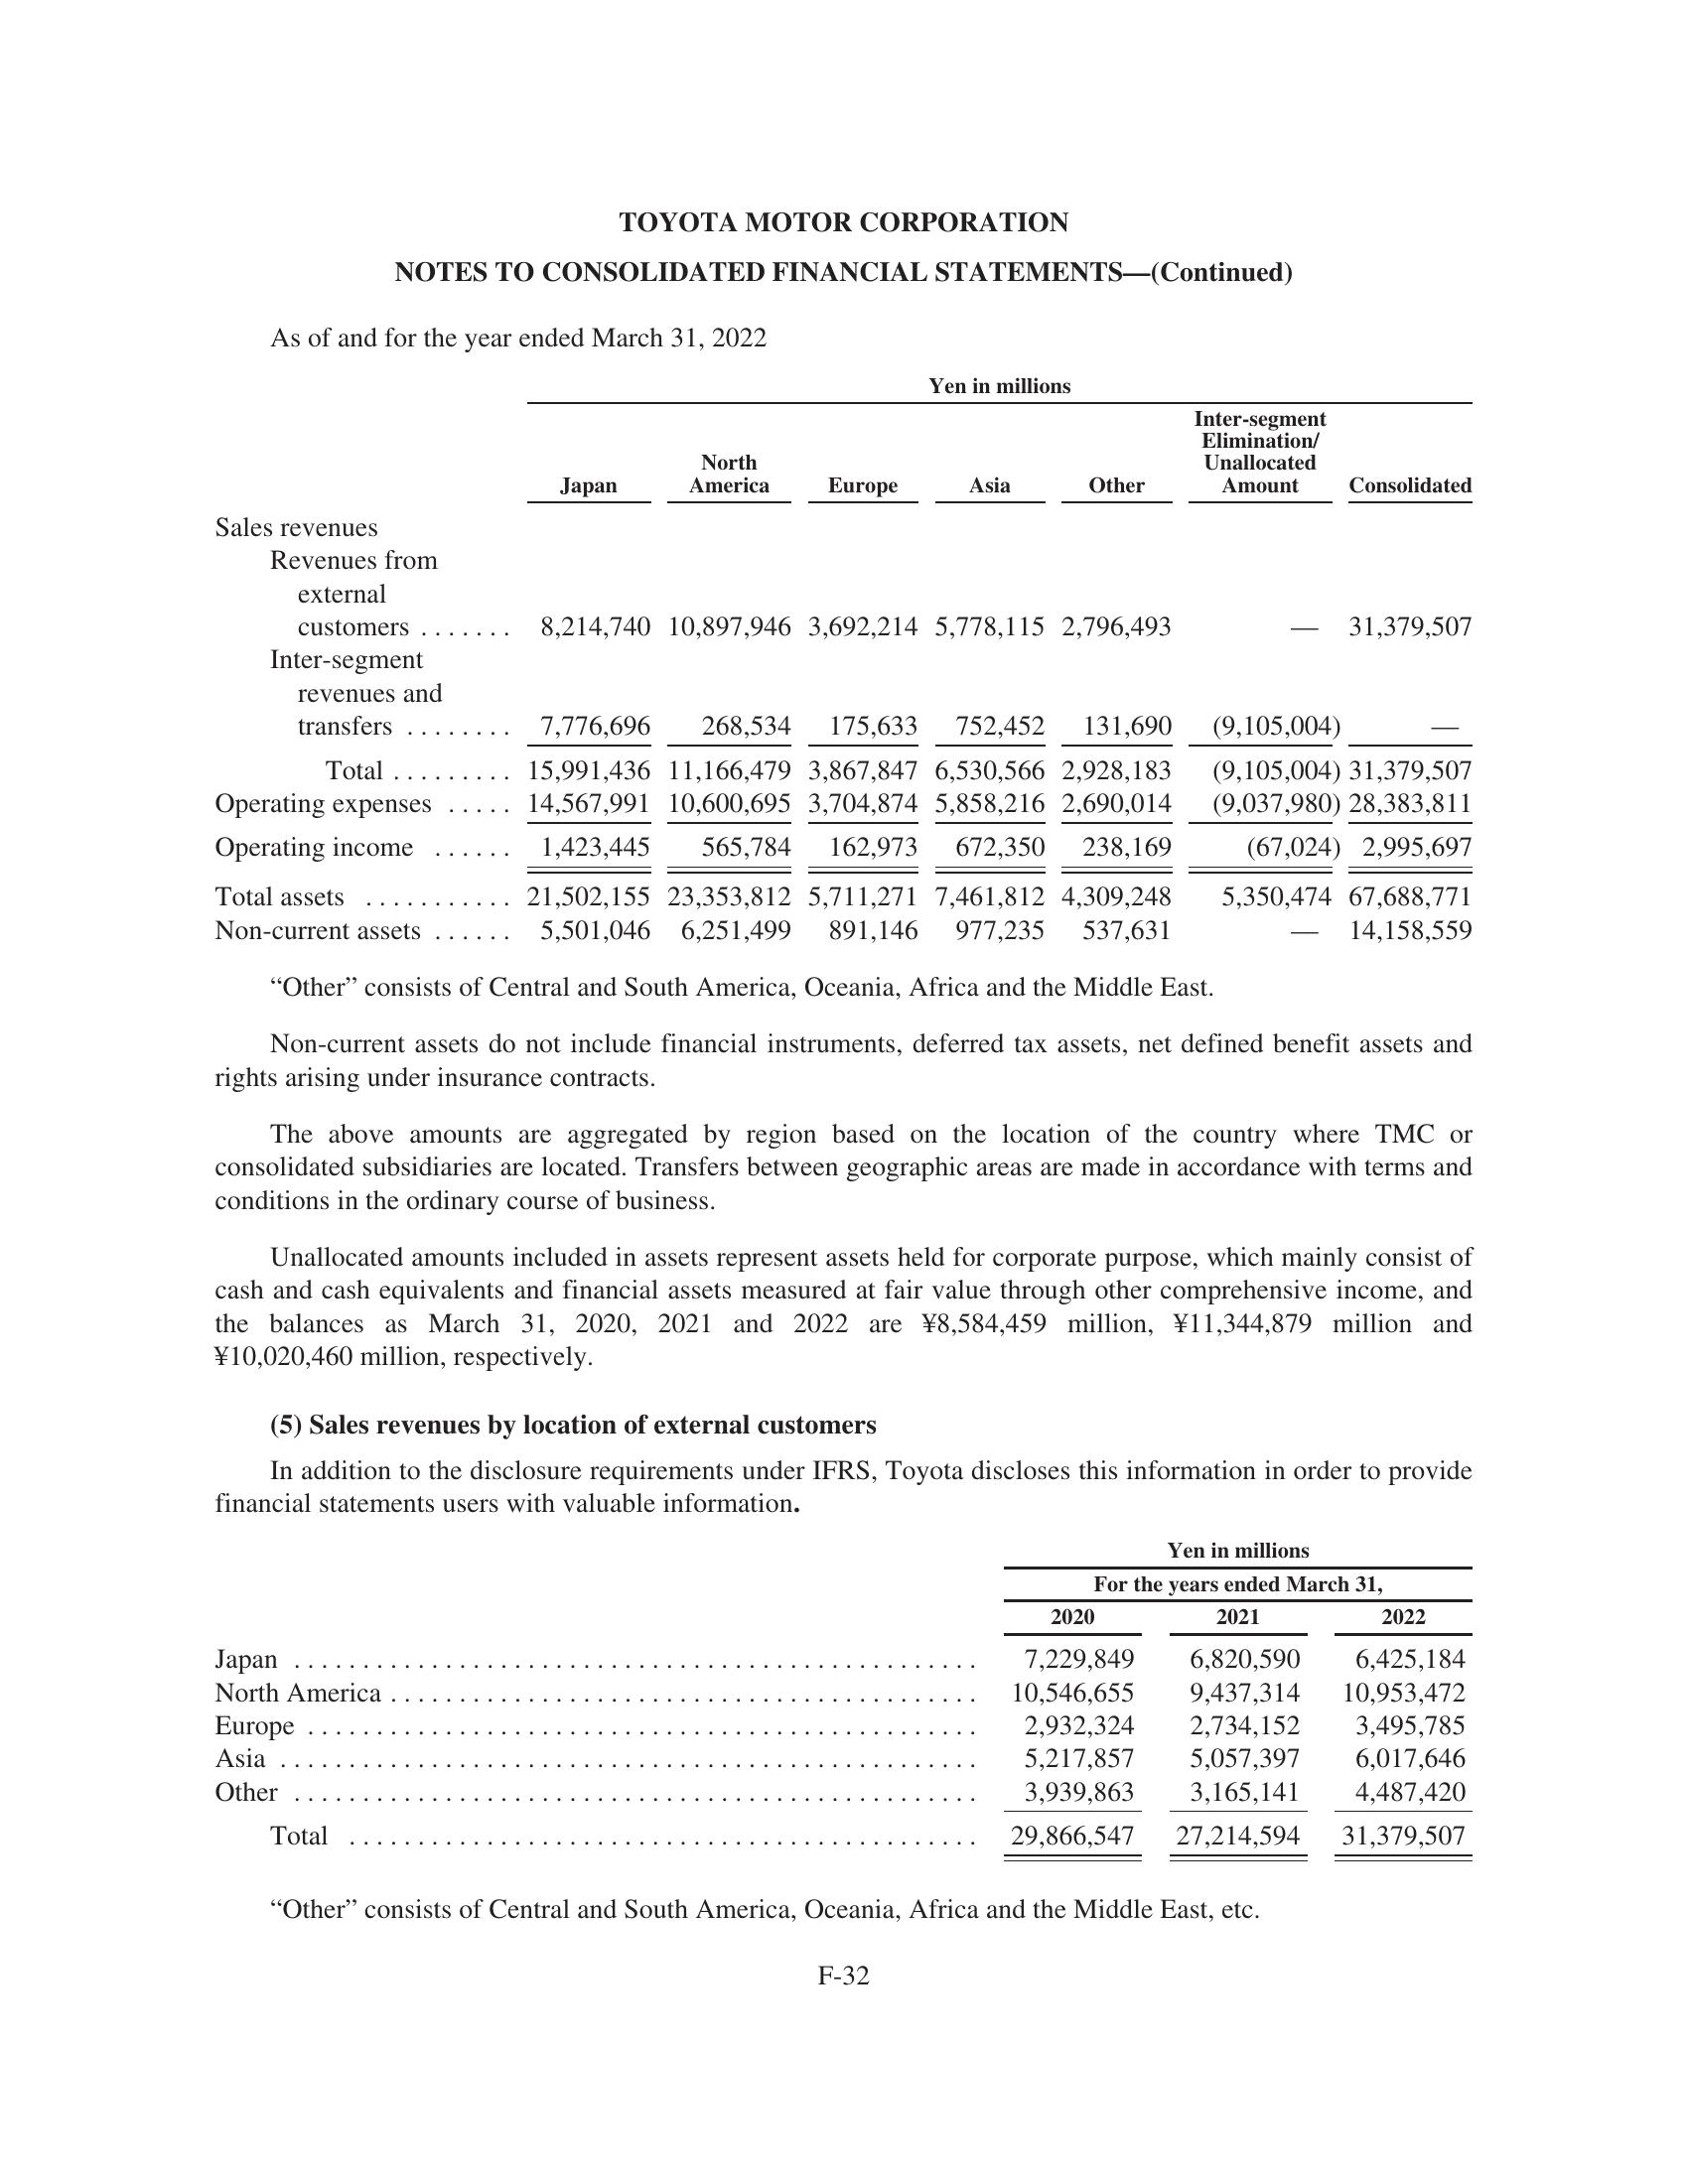Footer: (0, 1954, 1688, 2184)
Header: (0, 0, 1688, 195)
Table: (137, 367, 1528, 963), (103, 1533, 1500, 1868)
